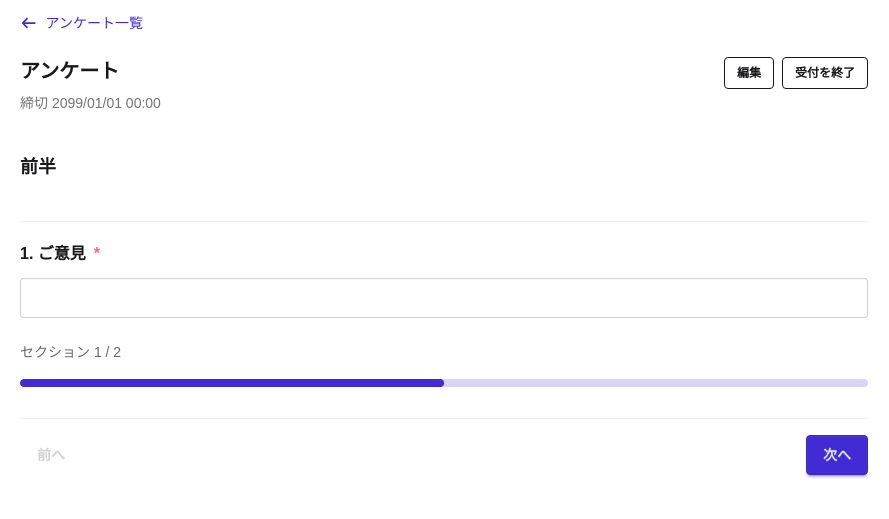
it: セクション移動時の入力検証 › 次へで必須回答がない場合、該当欄直下に表示してフォーカスする
Step 1. Click the button "次へ" → (837,455), box [806,435,868,475]
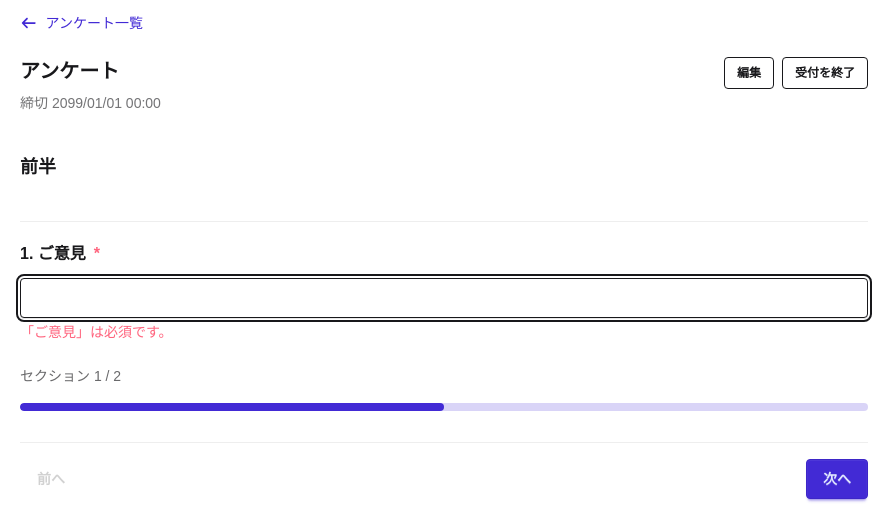
Now the text "「ご意見」は必須です。" is shown, box [20,324,173,340]
